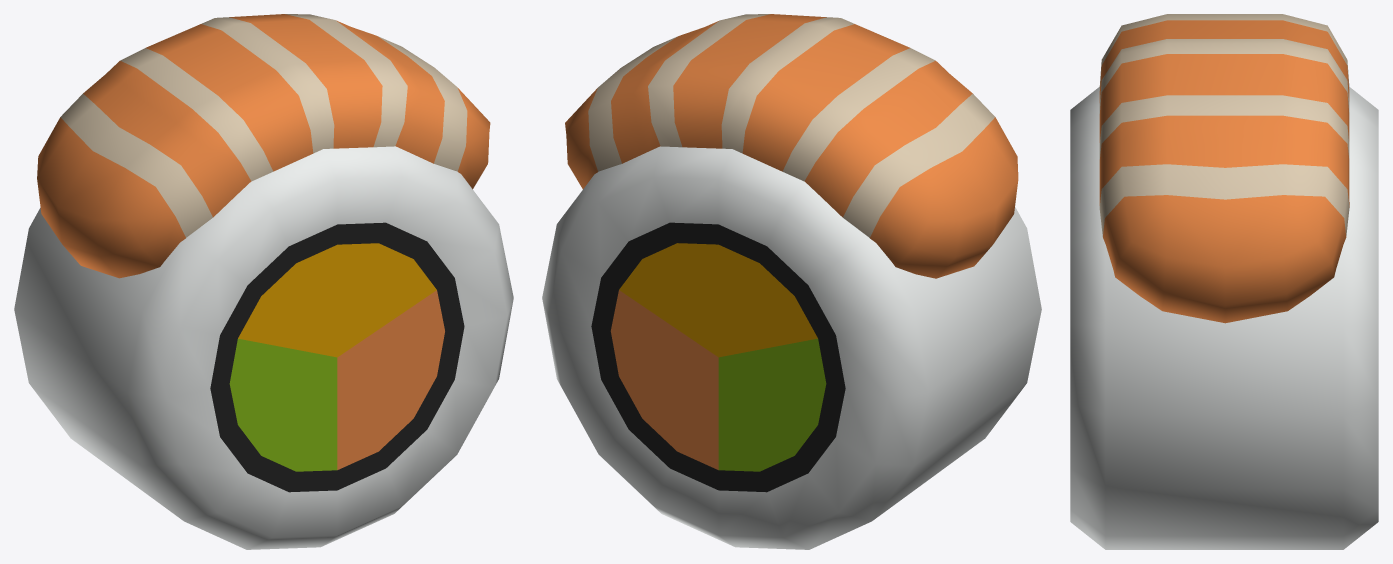
The model's file is salmon_roll.glb.
3 views of the same model, side by side, from view 1: azimuth 30°, elevation 25°; view 2: azimuth 150°, elevation 25°; view 3: azimuth 270°, elevation 25° (orthographic). The views are drawn at different scales.
Visible parts, largest first — view 1: Food_SalmonRoll; view 2: Food_SalmonRoll; view 3: Food_SalmonRoll.
Part boxes in pixels (<box>): Food_SalmonRoll: <box>14,14,513,549</box>; Food_SalmonRoll: <box>542,14,1041,549</box>; Food_SalmonRoll: <box>1070,14,1378,549</box>.
Bounding box in the file's own units: 0.4656 × 0.4994 × 0.2881.
Materials: 1 (1 with a texture image).
